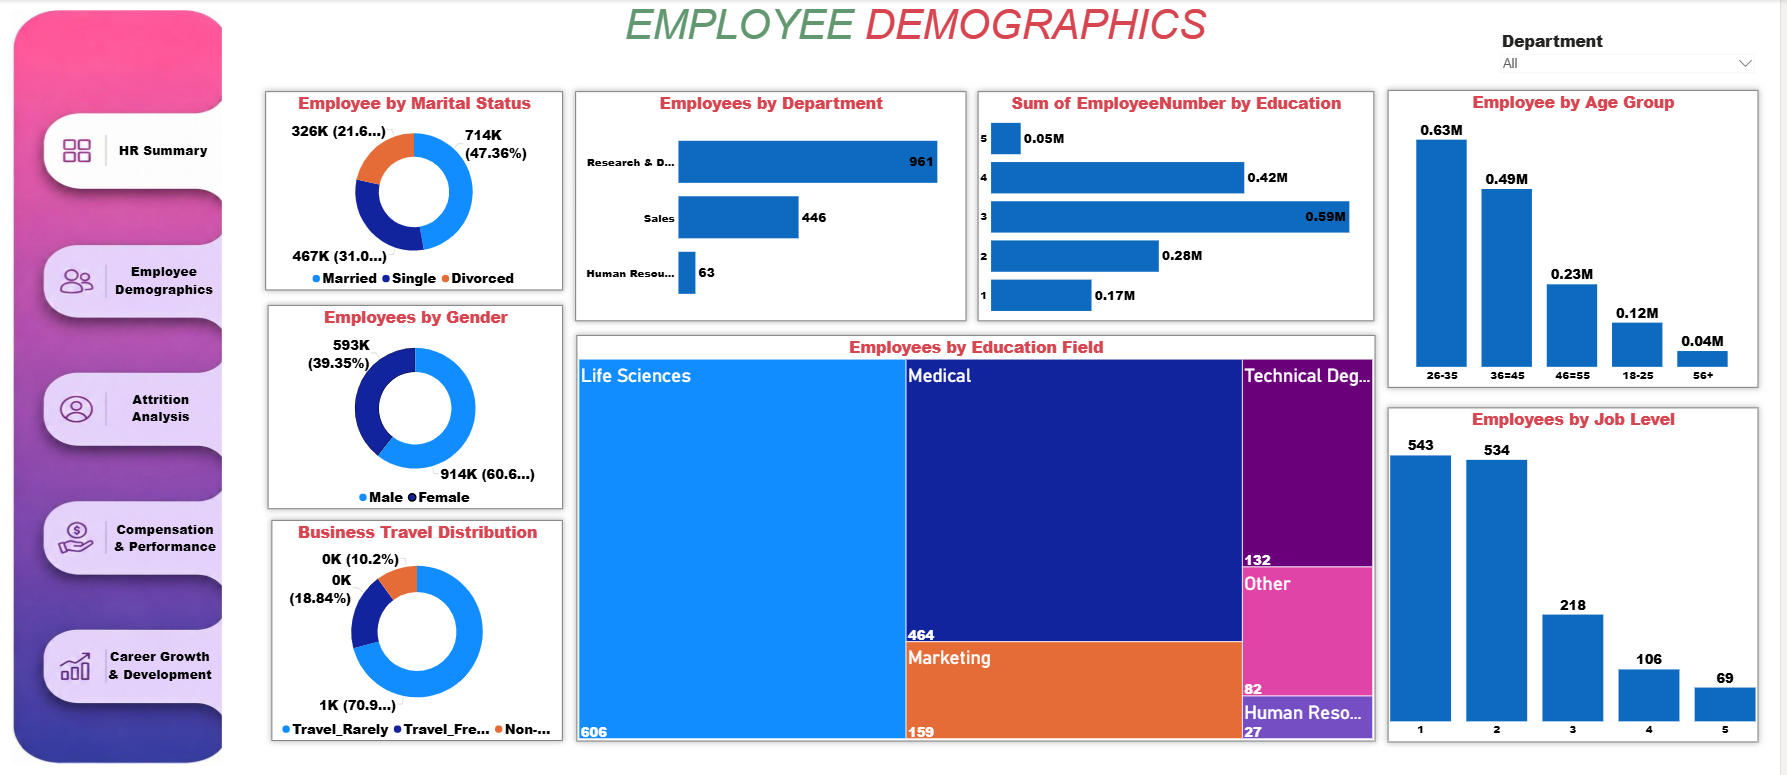

Layout of this report page (visuals, bound fields, positions):
{"tool":"powerbi","page":{"name":"Page 2","canvas":[4580,2000],"ordinal":1},"visuals":[{"type":"textbox","box":[1486.3,0,1739.5,144.7],"z":0},{"type":"donutChart","title":" Employees by Gender","fields":{"Category":["WA_Fn-UseC_-HR-Employee-Attrition.Gender"],"Y":["Sum(WA_Fn-UseC_-HR-Employee-Attrition.EmployeeNumber)"]},"box":[694.8,787,757.4,523.6],"z":1000},{"type":"columnChart","title":"Employee by Age Group","fields":{"Y":["Sum(WA_Fn-UseC_-HR-Employee-Attrition.EmployeeNumber)"],"Category":["WA_Fn-UseC_-HR-Employee-Attrition.Age Range"]},"box":[3573.4,234.4,951.1,764.3],"z":2000},{"type":"donutChart","title":"Employee by Marital Status","fields":{"Y":["Sum(WA_Fn-UseC_-HR-Employee-Attrition.EmployeeNumber)"],"Category":["WA_Fn-UseC_-HR-Employee-Attrition.MaritalStatus"]},"box":[688.3,237.1,764,510.4],"z":3000},{"type":"barChart","fields":{"Category":["WA_Fn-UseC_-HR-Employee-Attrition.Education"],"Y":["Sum(WA_Fn-UseC_-HR-Employee-Attrition.EmployeeNumber)"]},"box":[2519.2,237.1,1017.6,589.5],"z":4000},{"type":"image","box":[36.7,29.4,540,1935.9],"z":5000},{"type":"treemap","title":"Employees  by Education Field","fields":{"Group":["WA_Fn-UseC_-HR-Employee-Attrition.EducationField"],"Values":["Sum(WA_Fn-UseC_-HR-Employee-Attrition.EmployeeCount)"]},"box":[1487.8,862.8,2051.6,1042.8],"z":6000},{"type":"barChart","title":"Employees by Department","fields":{"Category":["WA_Fn-UseC_-HR-Employee-Attrition.Department"],"Y":["Sum(WA_Fn-UseC_-HR-Employee-Attrition.EmployeeCount)"]},"box":[1485.2,237.1,1004.4,589.5],"z":7000},{"type":"clusteredColumnChart","title":"Employees by Job Level","fields":{"Category":["WA_Fn-UseC_-HR-Employee-Attrition.JobLevel"],"Y":["Sum(WA_Fn-UseC_-HR-Employee-Attrition.EmployeeCount)"]},"box":[3573.4,1049.6,951.1,859.4],"z":8000},{"type":"donutChart","title":"Business Travel Distribution","fields":{"Category":["WA_Fn-UseC_-HR-Employee-Attrition.BusinessTravel"],"Y":["Sum(WA_Fn-UseC_-HR-Employee-Attrition.EmployeeCount)"]},"box":[704.7,1340.3,747.5,566.4],"z":9000},{"type":"actionButton","box":[258.6,347.5,335.3,80.8],"z":10000},{"type":"actionButton","box":[258.6,662.6,339.4,121.2],"z":11000},{"type":"actionButton","box":[282.8,977.1,272,146.7],"z":12000},{"type":"actionButton","box":[282.8,1310,293.5,146.7],"z":13000},{"type":"actionButton","box":[269.9,1638.5,292.4,147.8],"z":14000},{"type":"slicer","fields":{"Values":["WA_Fn-UseC_-HR-Employee-Attrition.Department"]},"box":[3852.9,72.4,671.8,121.8],"z":14001}]}

Visuals, with their boxes in screenshot pixels (x1, y1, x2, y2), scaled from the page's 4580x2000 canvas onto the 1787x775 screenshot:
textbox: x1=580 y1=0 x2=1259 y2=56
" Employees by Gender" donutChart: x1=271 y1=305 x2=567 y2=508
"Employee by Age Group" columnChart: x1=1394 y1=91 x2=1765 y2=387
"Employee by Marital Status" donutChart: x1=269 y1=92 x2=567 y2=290
barChart - WA_Fn-UseC_-HR-Employee-Attrition.Education x Sum(WA_Fn-UseC_-HR-Employee-Attrition.EmployeeNumber): x1=983 y1=92 x2=1380 y2=320
image: x1=14 y1=11 x2=225 y2=762
"Employees  by Education Field" treemap: x1=581 y1=334 x2=1381 y2=738
"Employees by Department" barChart: x1=579 y1=92 x2=971 y2=320
"Employees by Job Level" clusteredColumnChart: x1=1394 y1=407 x2=1765 y2=740
"Business Travel Distribution" donutChart: x1=275 y1=519 x2=567 y2=739
actionButton: x1=101 y1=135 x2=232 y2=166
actionButton: x1=101 y1=257 x2=233 y2=304
actionButton: x1=110 y1=379 x2=216 y2=435
actionButton: x1=110 y1=508 x2=225 y2=564
actionButton: x1=105 y1=635 x2=219 y2=692
slicer - WA_Fn-UseC_-HR-Employee-Attrition.Department: x1=1503 y1=28 x2=1765 y2=75
